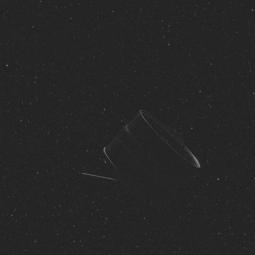double_start: (82, 108, 208, 205)
